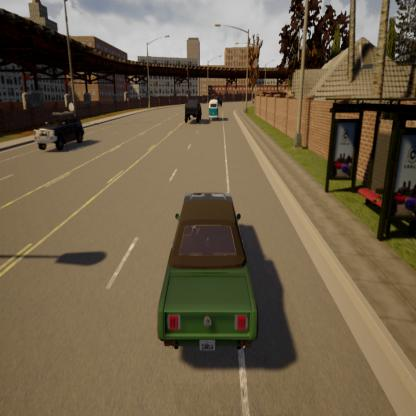Cars: (154, 171, 264, 370), (31, 99, 90, 157), (180, 95, 204, 133), (208, 96, 222, 124)
